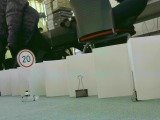speed_20: (16, 48, 36, 68)
